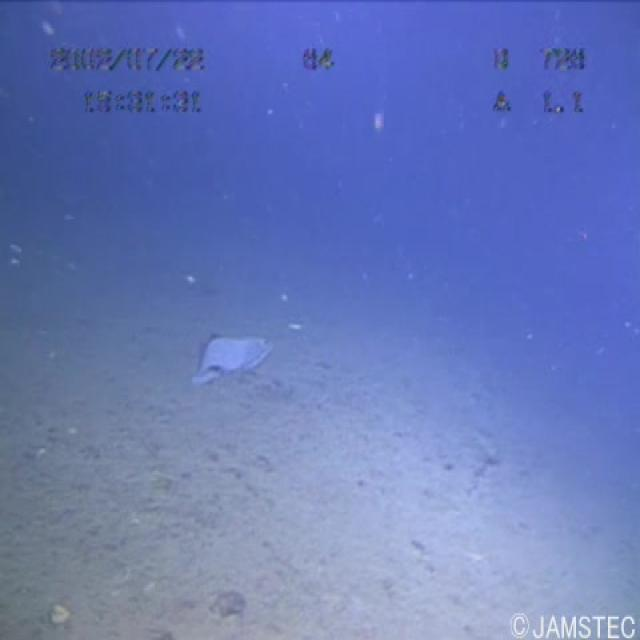plastic: (173, 311, 280, 386)
